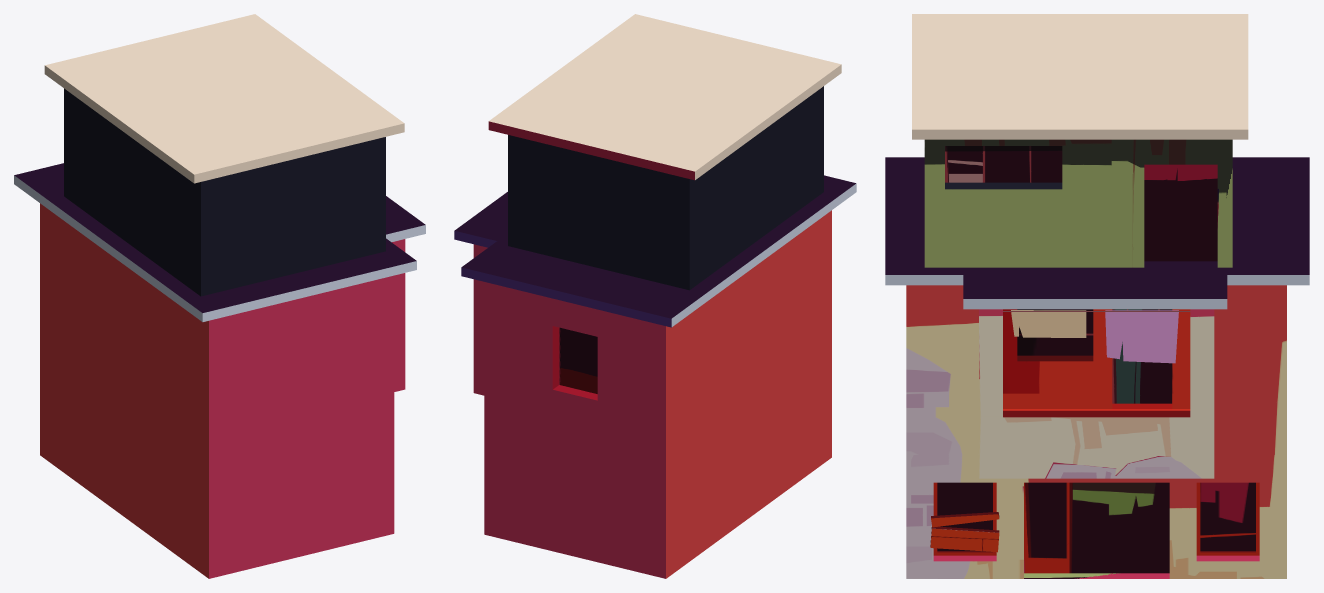
The picture shows the model from 3 angles, left to right: view 1: azimuth 30°, elevation 25°; view 2: azimuth 150°, elevation 25°; view 3: azimuth 270°, elevation 25°; orthographic projection. The views are drawn at different scales.
Visible parts, largest first — view 1: 4.001_Bina4_0; view 2: 4.001_Bina4_0; view 3: 4.001_Bina4_0.
Boxes of the visible parts, x1,y1,x2,y2 form: 4.001_Bina4_0: (14,14,425,578); 4.001_Bina4_0: (454,14,856,578); 4.001_Bina4_0: (885,14,1309,578).
Bounding box in the file's own units: 98.27 × 148 × 124.
